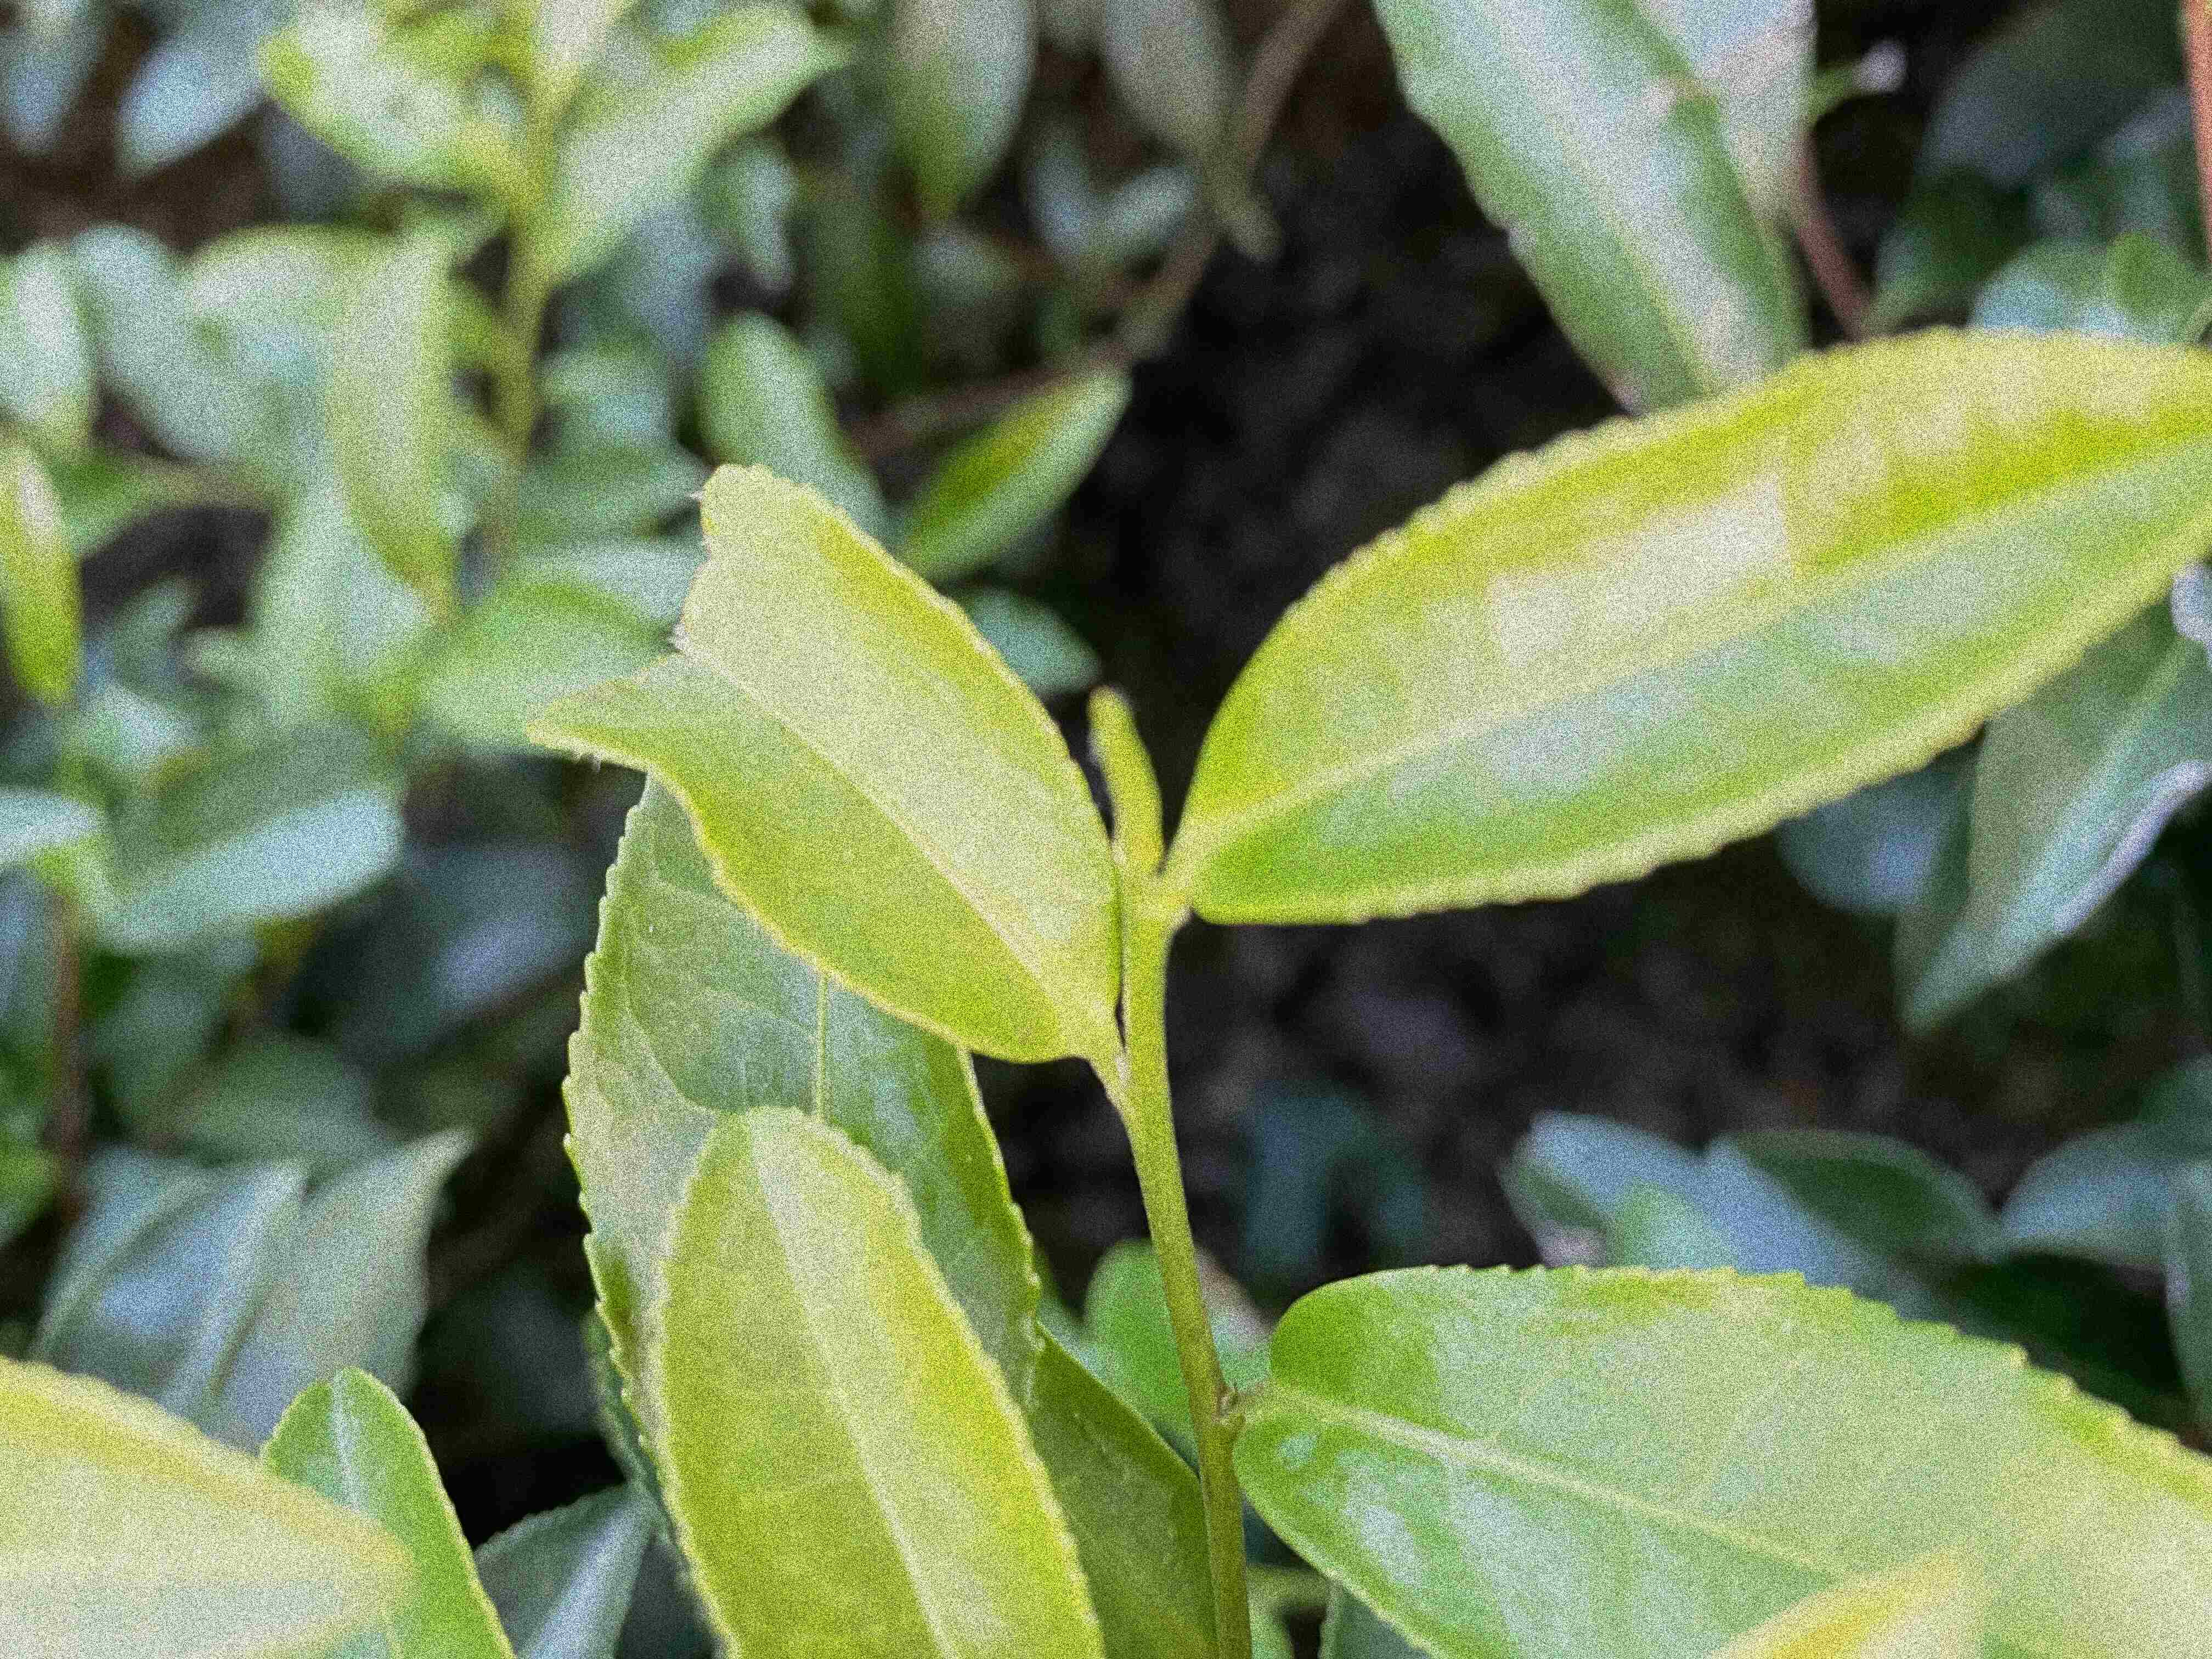chihuo_high: (521, 458, 1122, 1063)
healthy: (1176, 321, 2207, 931), (650, 1103, 1106, 1656)
